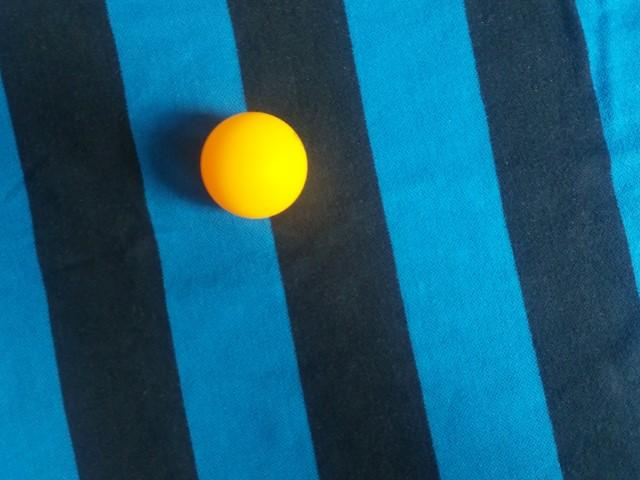oball: (327, 256, 445, 373)
